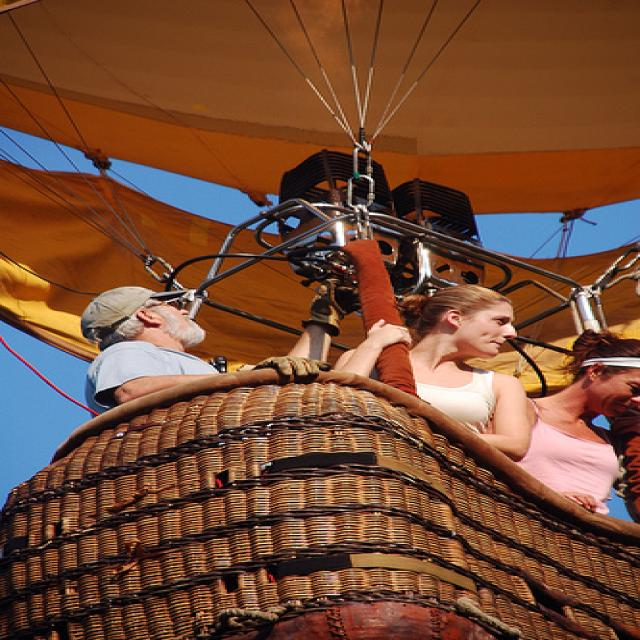person: (80, 275, 362, 407), (332, 285, 534, 467), (503, 330, 639, 517)
